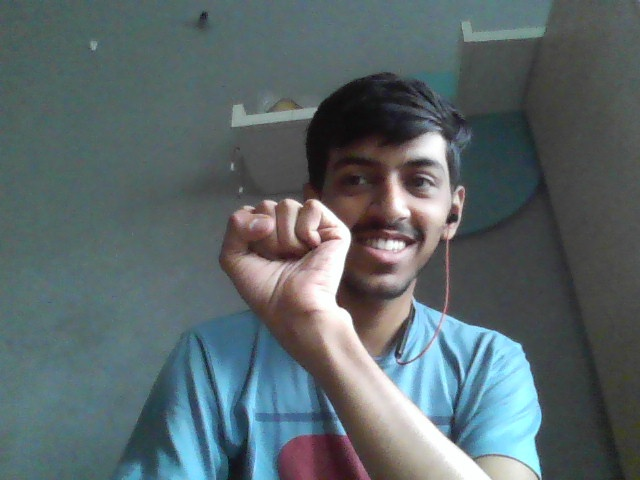Yes: (219, 196, 360, 328)
